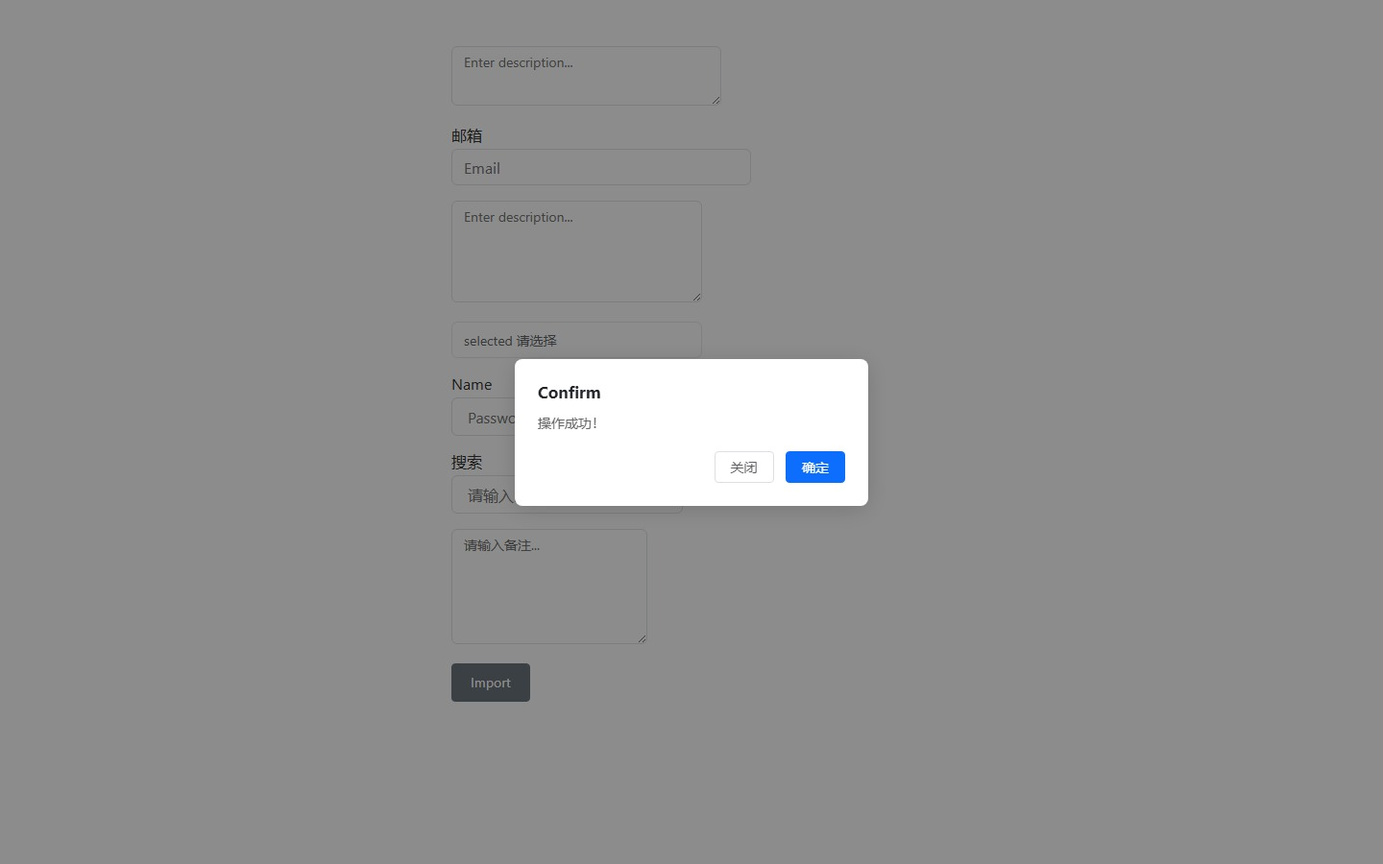button: (451, 663, 530, 702), (714, 451, 774, 482), (786, 451, 845, 482)
input: (451, 397, 763, 436), (451, 149, 751, 185), (451, 475, 683, 514)
modal: (0, 0, 1383, 864)
select: (451, 322, 702, 358)
textarea: (451, 201, 702, 302), (451, 529, 647, 644), (451, 46, 721, 106)
